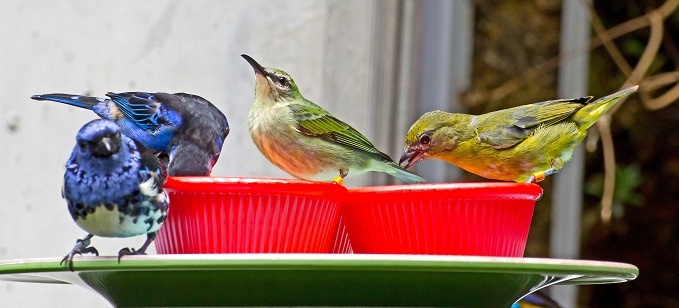bird: (393, 81, 645, 189), (236, 47, 429, 183), (27, 80, 237, 179), (56, 115, 171, 269)
